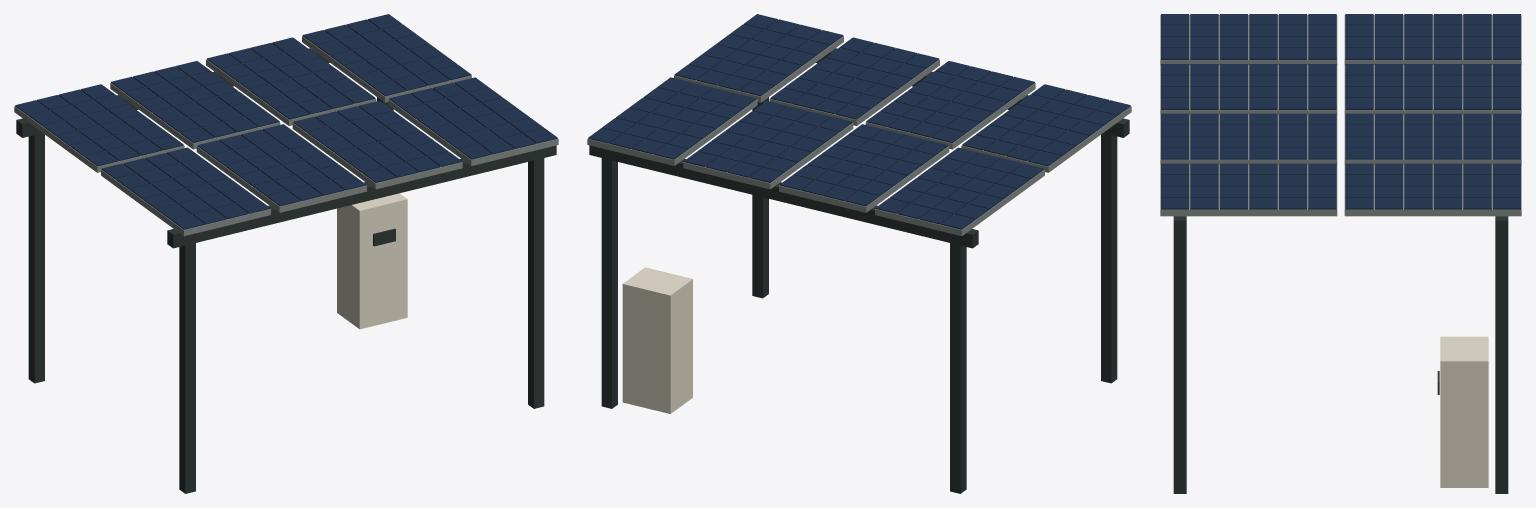
File: canopy.glb
3 renders of one model, left to right at view 1: azimuth 30°, elevation 25°; view 2: azimuth 150°, elevation 25°; view 3: azimuth 270°, elevation 25°, orthographic. The views are drawn at different scales.
Visible parts, largest first — view 1: canopy_Solarni clanky, canopy_Antracit, canopy_Ocel, canopy_Len; view 2: canopy_Solarni clanky, canopy_Antracit, canopy_Len, canopy_Ocel; view 3: canopy_Solarni clanky, canopy_Ocel, canopy_Antracit, canopy_Len.
Boxes of the visible parts, left/top/right/bottom form: canopy_Solarni clanky: left=15, top=14, right=557, bottom=229; canopy_Antracit: left=16, top=48, right=556, bottom=493; canopy_Ocel: left=14, top=29, right=558, bottom=236; canopy_Len: left=337, top=193, right=407, bottom=329; canopy_Solarni clanky: left=588, top=14, right=1130, bottom=229; canopy_Antracit: left=589, top=48, right=1129, bottom=493; canopy_Len: left=622, top=267, right=692, bottom=413; canopy_Ocel: left=587, top=29, right=1131, bottom=236; canopy_Solarni clanky: left=1161, top=14, right=1520, bottom=209; canopy_Ocel: left=1160, top=15, right=1521, bottom=216; canopy_Antracit: left=1173, top=216, right=1508, bottom=493; canopy_Len: left=1440, top=336, right=1488, bottom=487.
Size of the model in its own units: 4.4 by 2.98 by 3.37.
